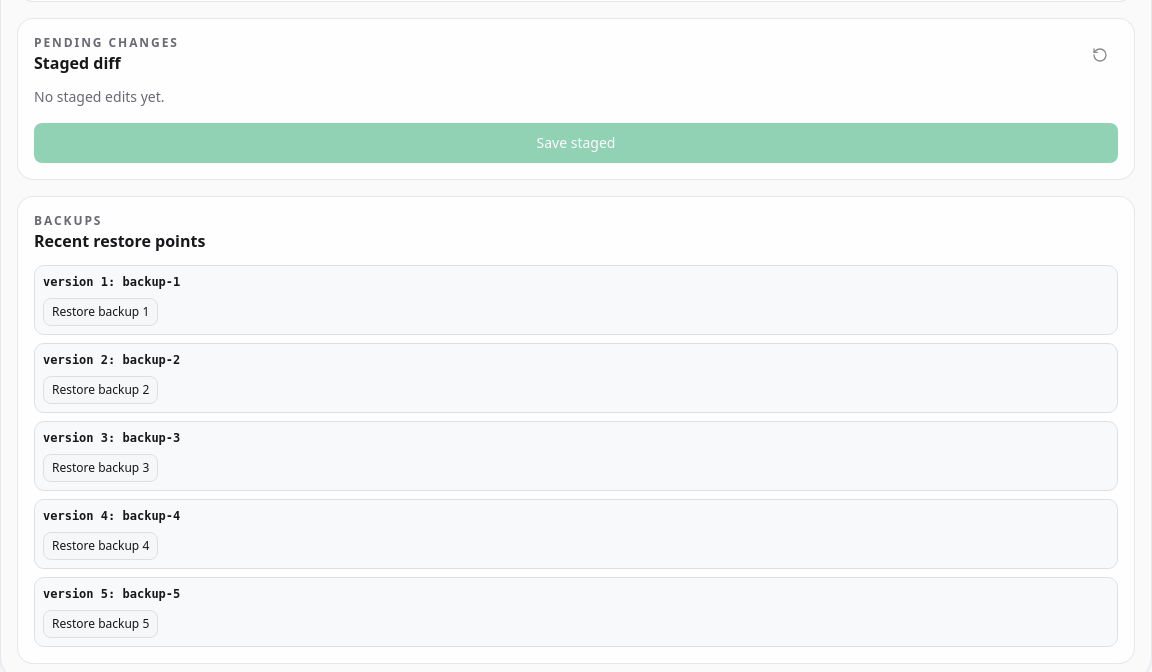
Test: ConfigWorkbench PR-B probes › renders backups and confirms restore
The width and height of the screenshot is (1152, 672).
(page scrolled)
expect the text "version 5: backup-5" is shown: met, box [43, 587, 180, 601]
Click the button "Restore backup 1".
click(101, 312)  # box [43, 298, 158, 326]
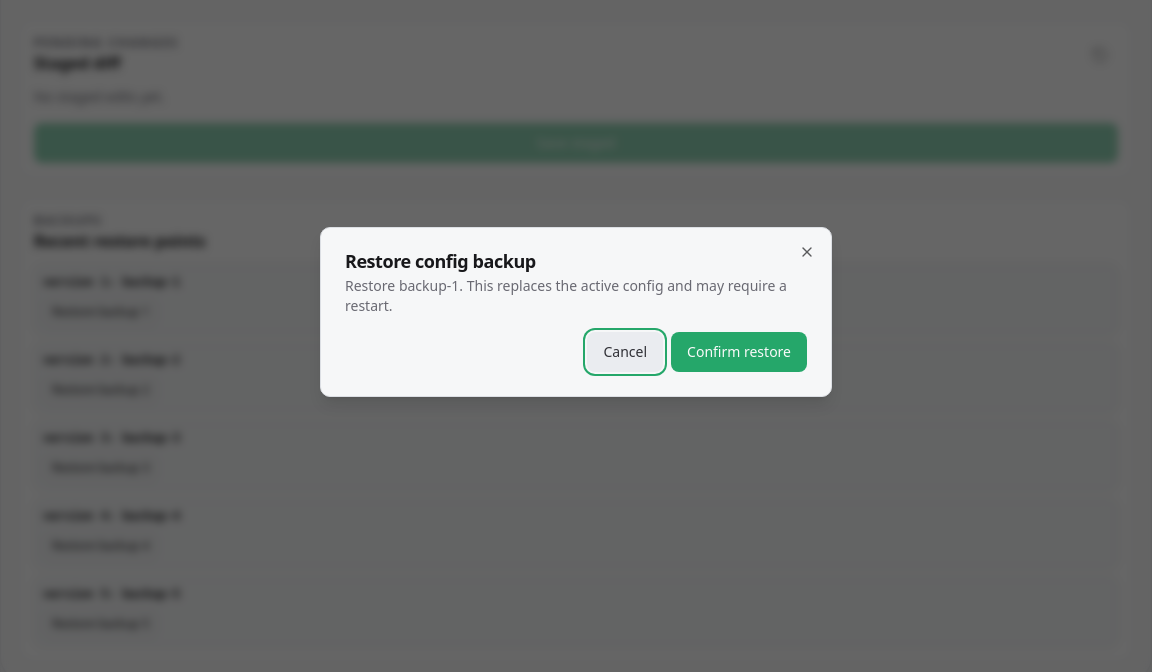
Click the button "Confirm restore".
click(739, 352)  # box [671, 332, 807, 372]
(page scrolled)
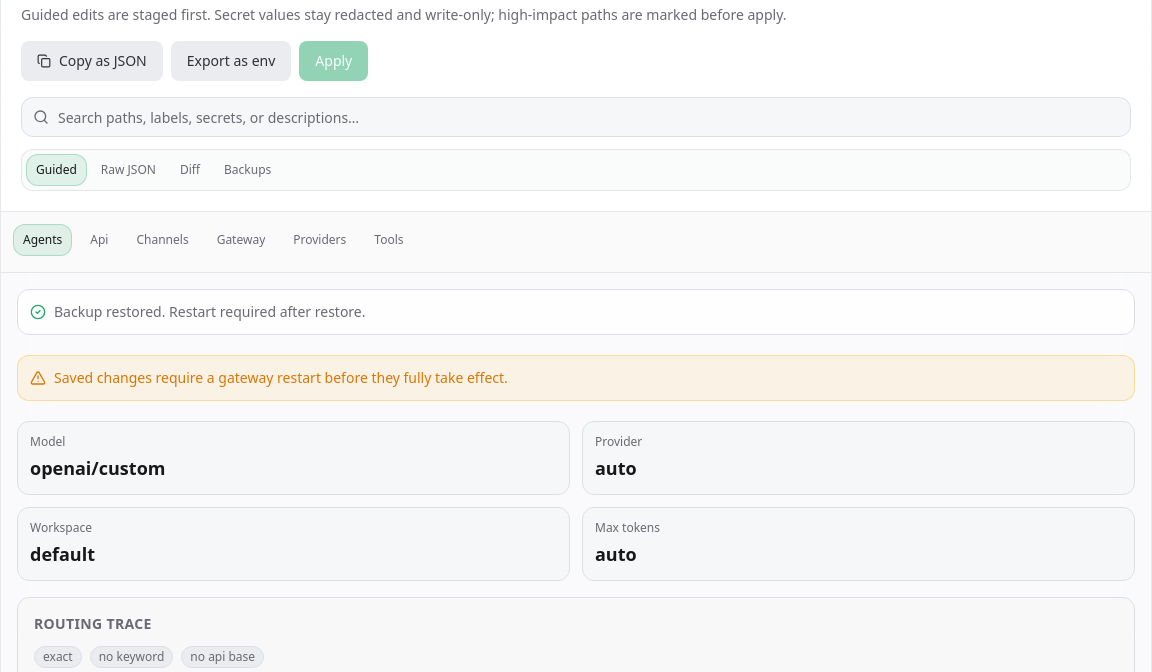
expect the text "Backup restored. Restart required after restore." is shown: met, box [17, 289, 1135, 335]
